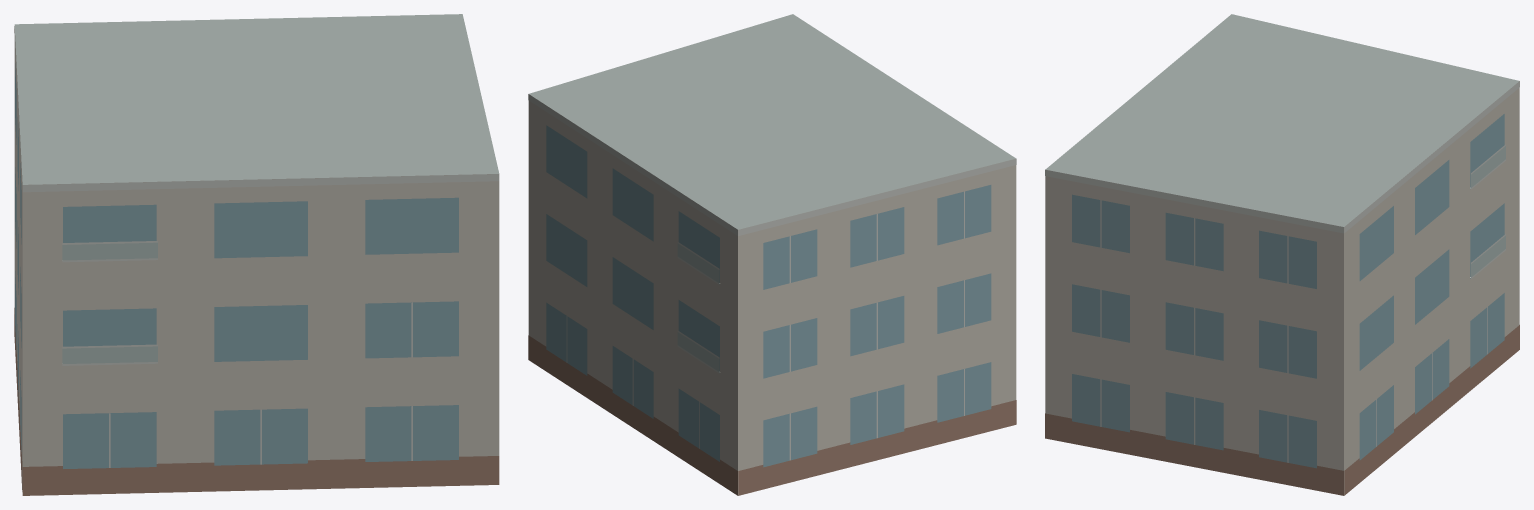
The model's file is survey-upis-32480889.glb.
3 views of the same model, side by side, from view 1: azimuth 30°, elevation 25°; view 2: azimuth 150°, elevation 25°; view 3: azimuth 270°, elevation 25° (orthographic). The views are drawn at different scales.
Parts seen in each view (by area): view 1: survey-upis-32480889.tmp; view 2: survey-upis-32480889.tmp; view 3: survey-upis-32480889.tmp.
Part boxes in pixels (x1,y1,x2,y2): survey-upis-32480889.tmp: [14, 14, 499, 495]; survey-upis-32480889.tmp: [528, 14, 1016, 495]; survey-upis-32480889.tmp: [1045, 14, 1519, 495].
Size of the model in its own units: 17.35 by 10.2 by 16.33.
